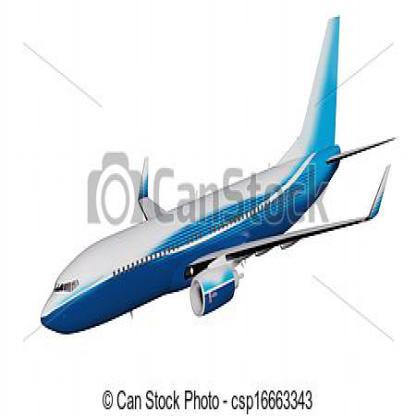CIV_Plane: (38, 11, 393, 343)
